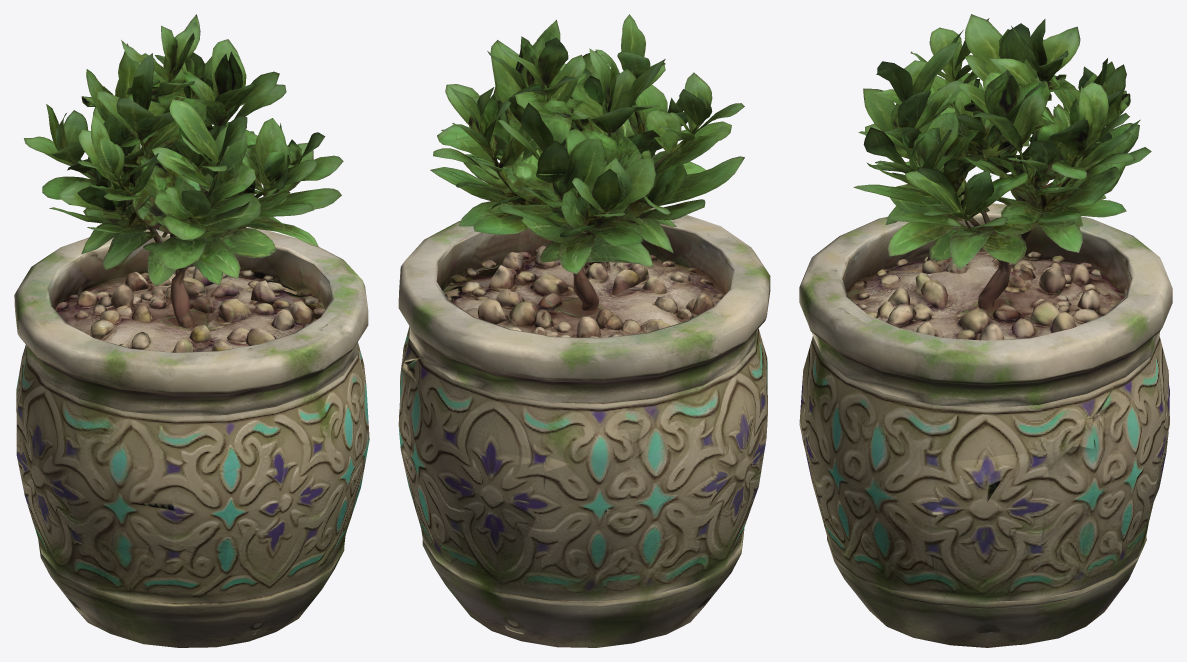
Rendered from Meshy_AI_Emerald_Leaves_in_an__0721143401_texture.fbx.
The picture shows the model from 3 angles, left to right: view 1: azimuth 30°, elevation 25°; view 2: azimuth 150°, elevation 25°; view 3: azimuth 270°, elevation 25°; orthographic projection. The views are drawn at different scales.
Parts seen in each view (by area): view 1: mesh_node; view 2: mesh_node; view 3: mesh_node.
Part boxes in pixels (<box>): mesh_node: <box>14,14,369,647</box>; mesh_node: <box>398,14,770,647</box>; mesh_node: <box>799,14,1172,647</box>.
Bounding box in the file's own units: 58.98 × 100 × 58.4.
1 material, 1 textured.
